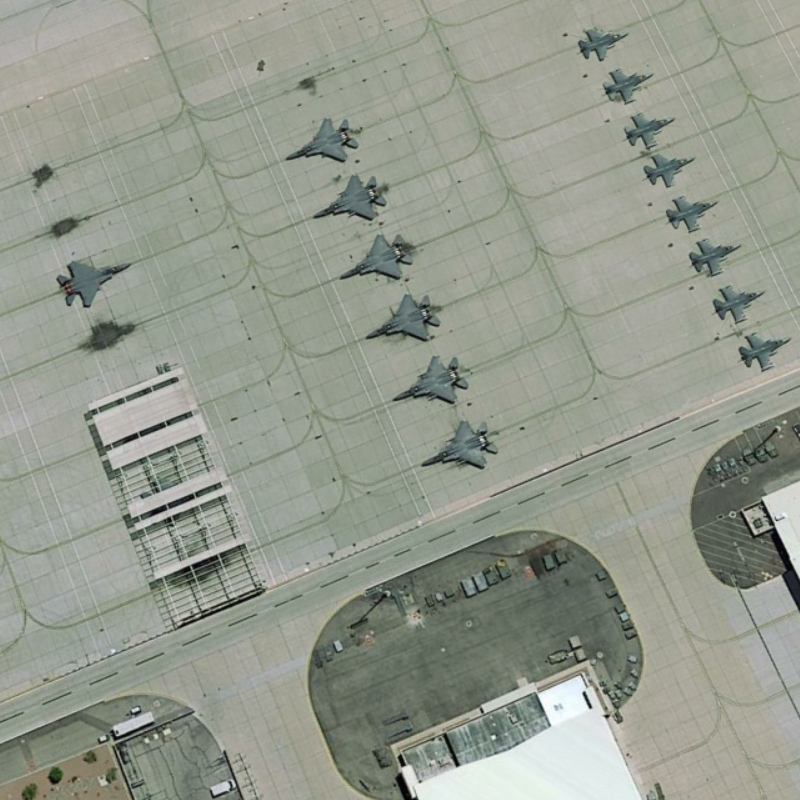A13: (389, 351, 475, 406), (335, 230, 415, 285), (363, 291, 444, 345), (420, 417, 500, 471), (309, 171, 391, 223), (54, 257, 135, 309), (282, 116, 361, 167)
A5: (736, 328, 795, 374), (709, 282, 766, 326), (621, 108, 679, 151), (687, 235, 744, 278), (640, 151, 698, 190), (575, 24, 632, 63), (601, 66, 656, 106), (664, 193, 719, 233)
